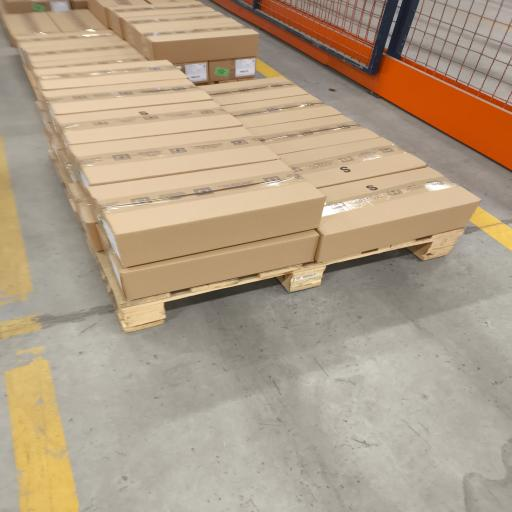pallet: (94, 229, 464, 332)
